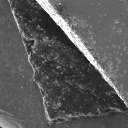corrosion: (106, 62, 114, 70), (117, 27, 122, 35), (113, 19, 119, 25), (111, 43, 117, 49), (87, 30, 93, 35)
